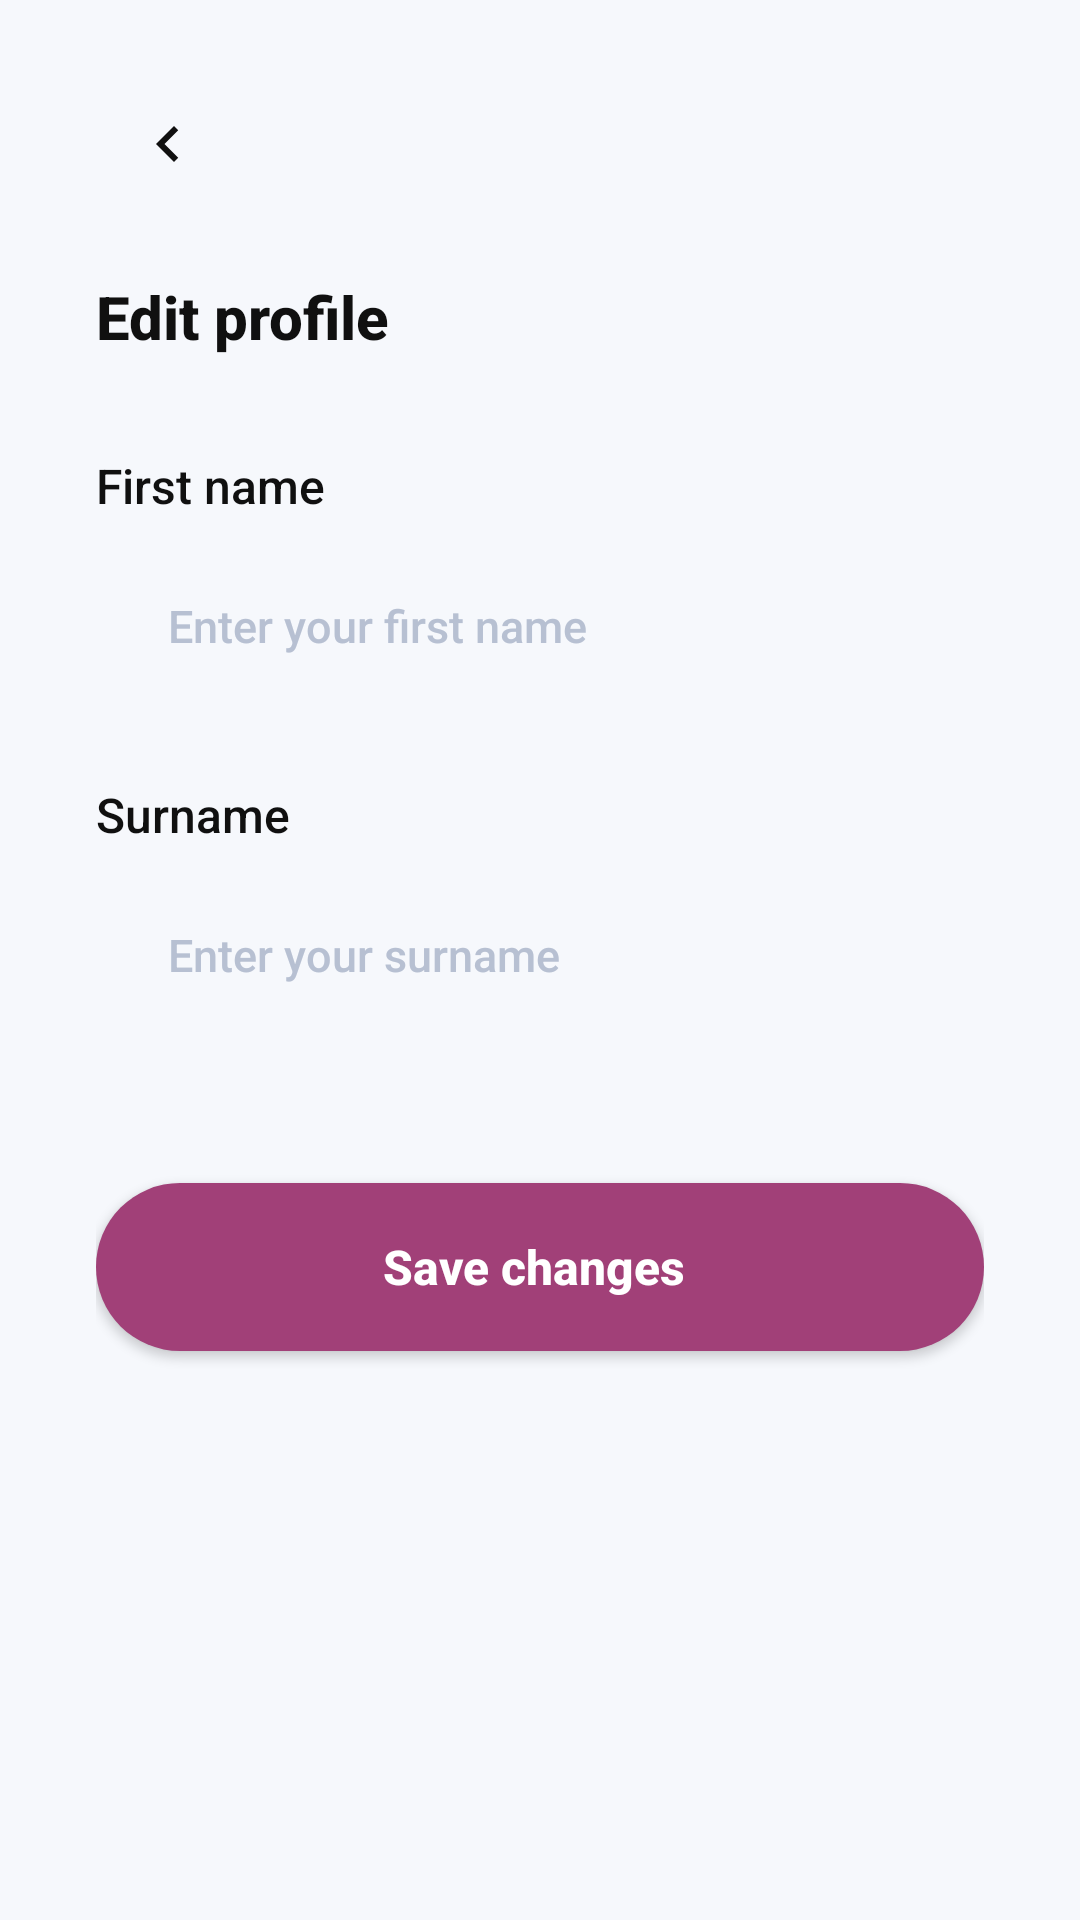

Point at icon controls on the screen. Image size 1080*1920, points as (x=x, y=y).
Back: (x=167, y=144)
